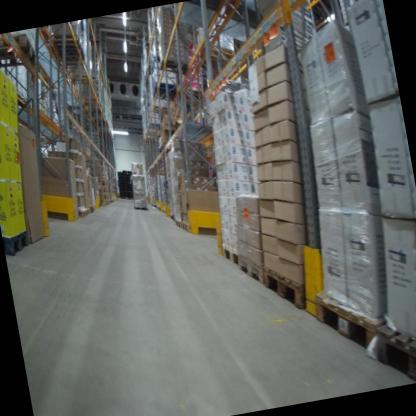pallet: (312, 277, 388, 366), (370, 313, 416, 383), (259, 255, 310, 316), (0, 29, 39, 74), (234, 245, 267, 288), (179, 212, 222, 241), (44, 29, 83, 53), (52, 44, 87, 68), (2, 227, 30, 257), (218, 237, 242, 272), (156, 51, 190, 75), (150, 75, 179, 100), (65, 67, 94, 89), (149, 99, 172, 117), (73, 202, 89, 219), (173, 218, 182, 230), (85, 205, 92, 214)
